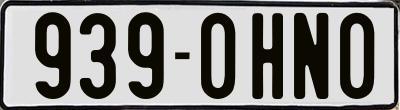0: (198, 13, 235, 103), (338, 12, 372, 102)
3: (80, 13, 119, 102)
9: (128, 9, 169, 99), (32, 12, 68, 104)
H: (250, 11, 282, 98)
N: (294, 13, 332, 102)
